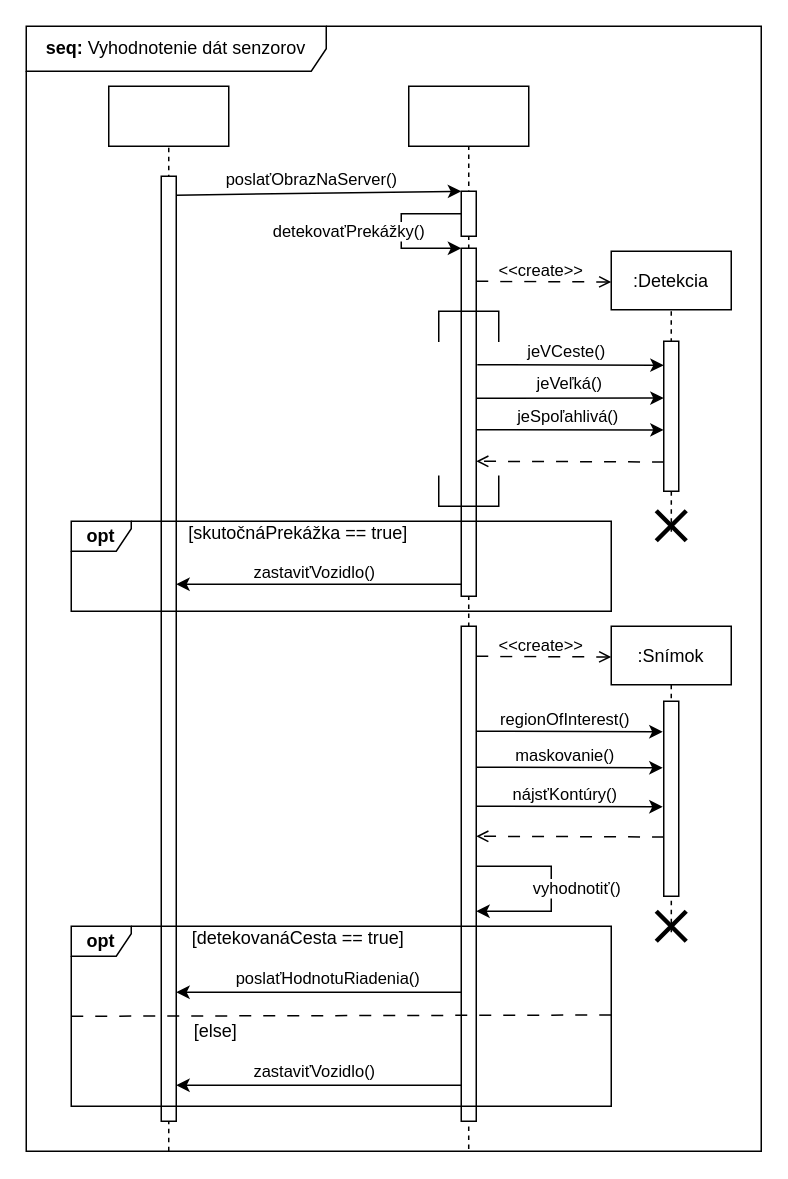
Image size: 788x1179. Some labels were removed from this diagram. Each missing label, with the box of its shape:
:Server: (407, 85, 529, 146)
:Vozidlo: (107, 85, 229, 146)
